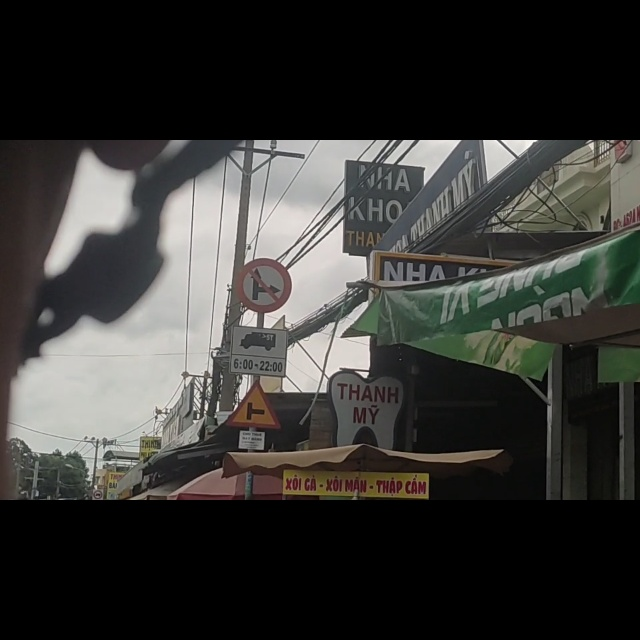bien_nguy_hiem: (238, 209, 291, 305), (231, 332, 287, 416), (229, 428, 279, 513)
